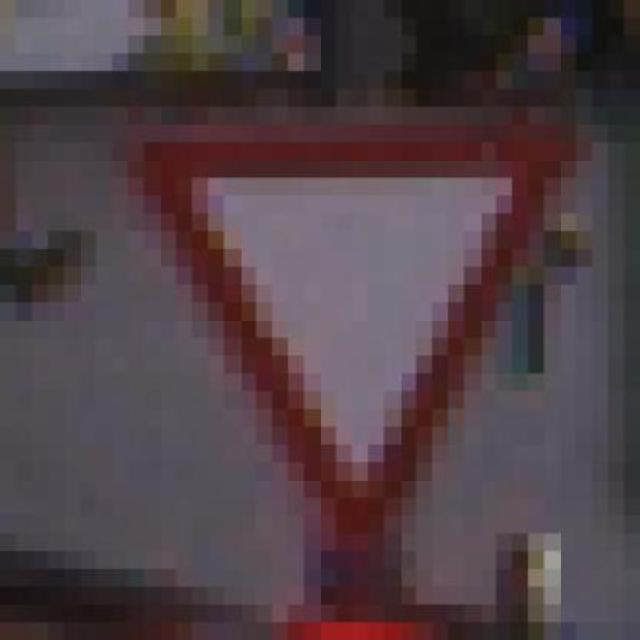Give Way: (96, 72, 609, 622)
